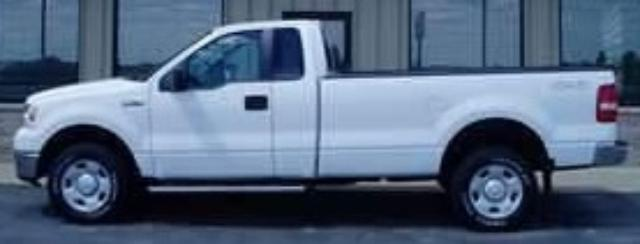pickup-truck: (12, 21, 631, 233)
